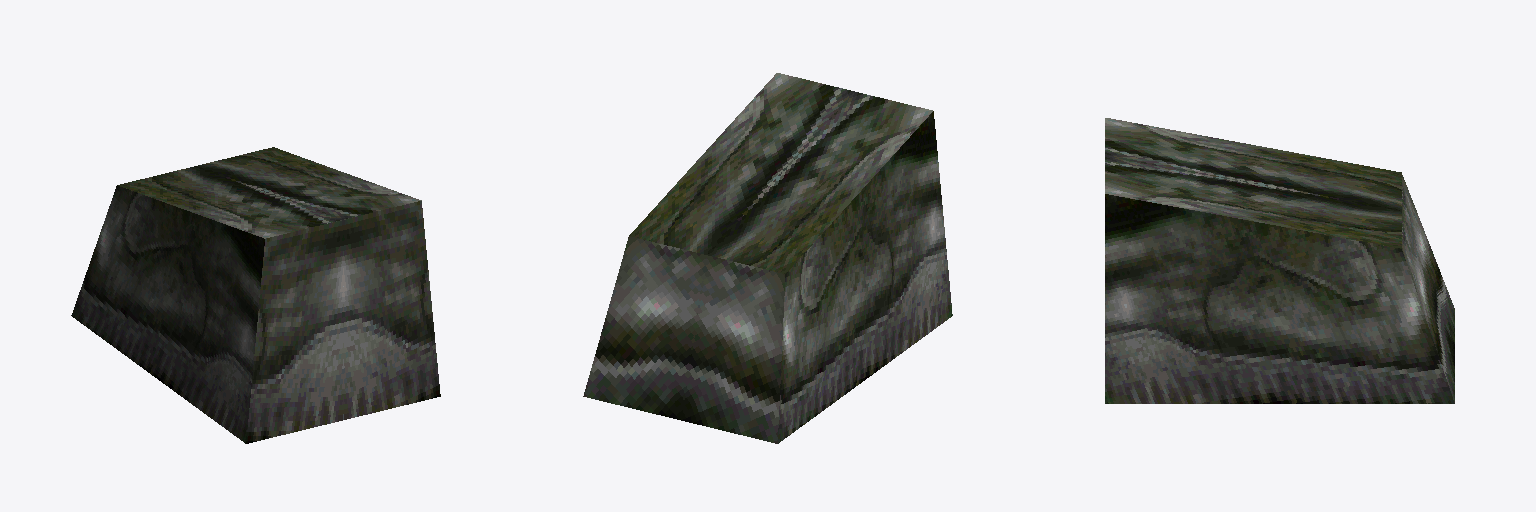
3 renders of one model, left to right at view 1: azimuth 30°, elevation 25°; view 2: azimuth 150°, elevation 25°; view 3: azimuth 270°, elevation 25°, orthographic.
Parts seen in each view (by area): view 1: arm_jacket_boot_Cube.004; view 2: arm_jacket_boot_Cube.004; view 3: arm_jacket_boot_Cube.004.
Part boxes in pixels (left/top/right/bottom): arm_jacket_boot_Cube.004: left=71, top=147, right=440, bottom=443; arm_jacket_boot_Cube.004: left=583, top=73, right=952, bottom=443; arm_jacket_boot_Cube.004: left=1105, top=118, right=1454, bottom=403.
Size of the model in its own units: 1.28 by 1.27 by 2.
Materials: 1 (1 with a texture image).